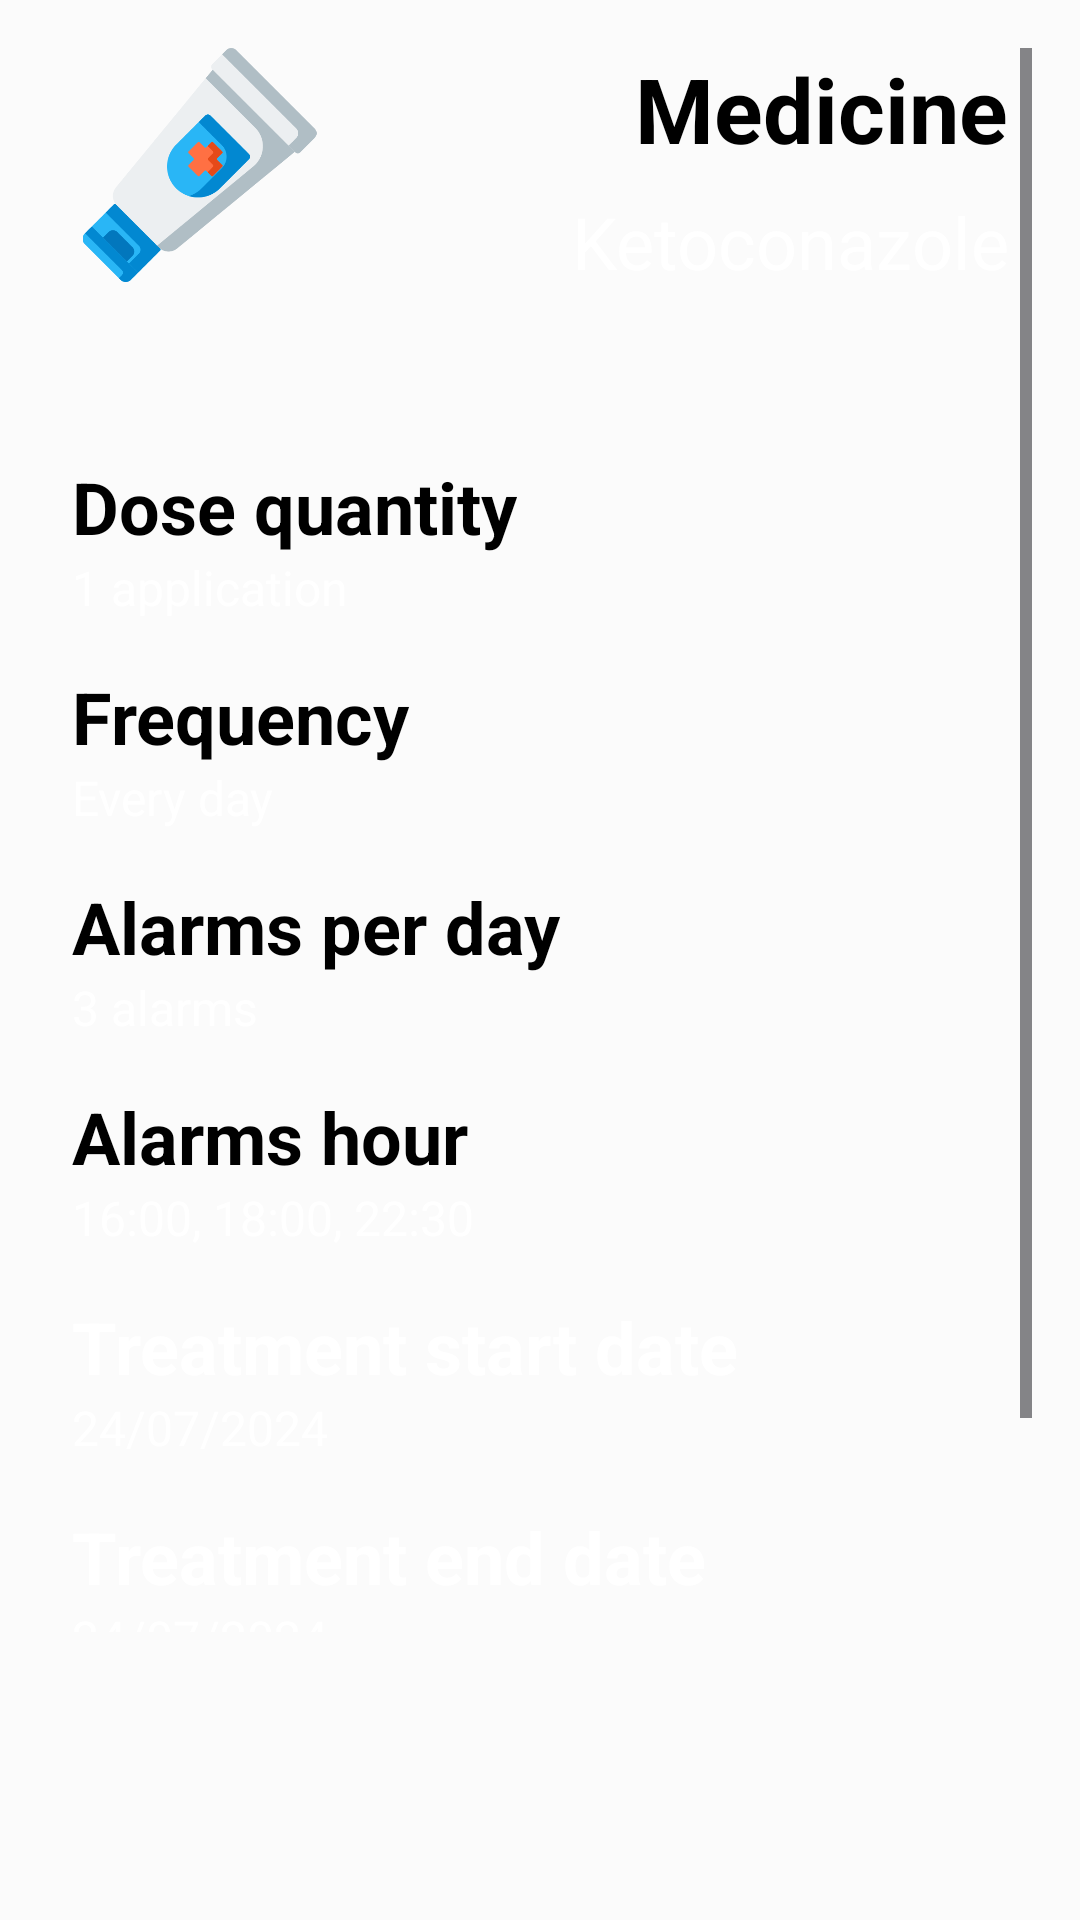

Icons on this 1080px x 1920px Android screen, each with the point to tap as point (x, y):
Medicine icon: point (200, 165)
